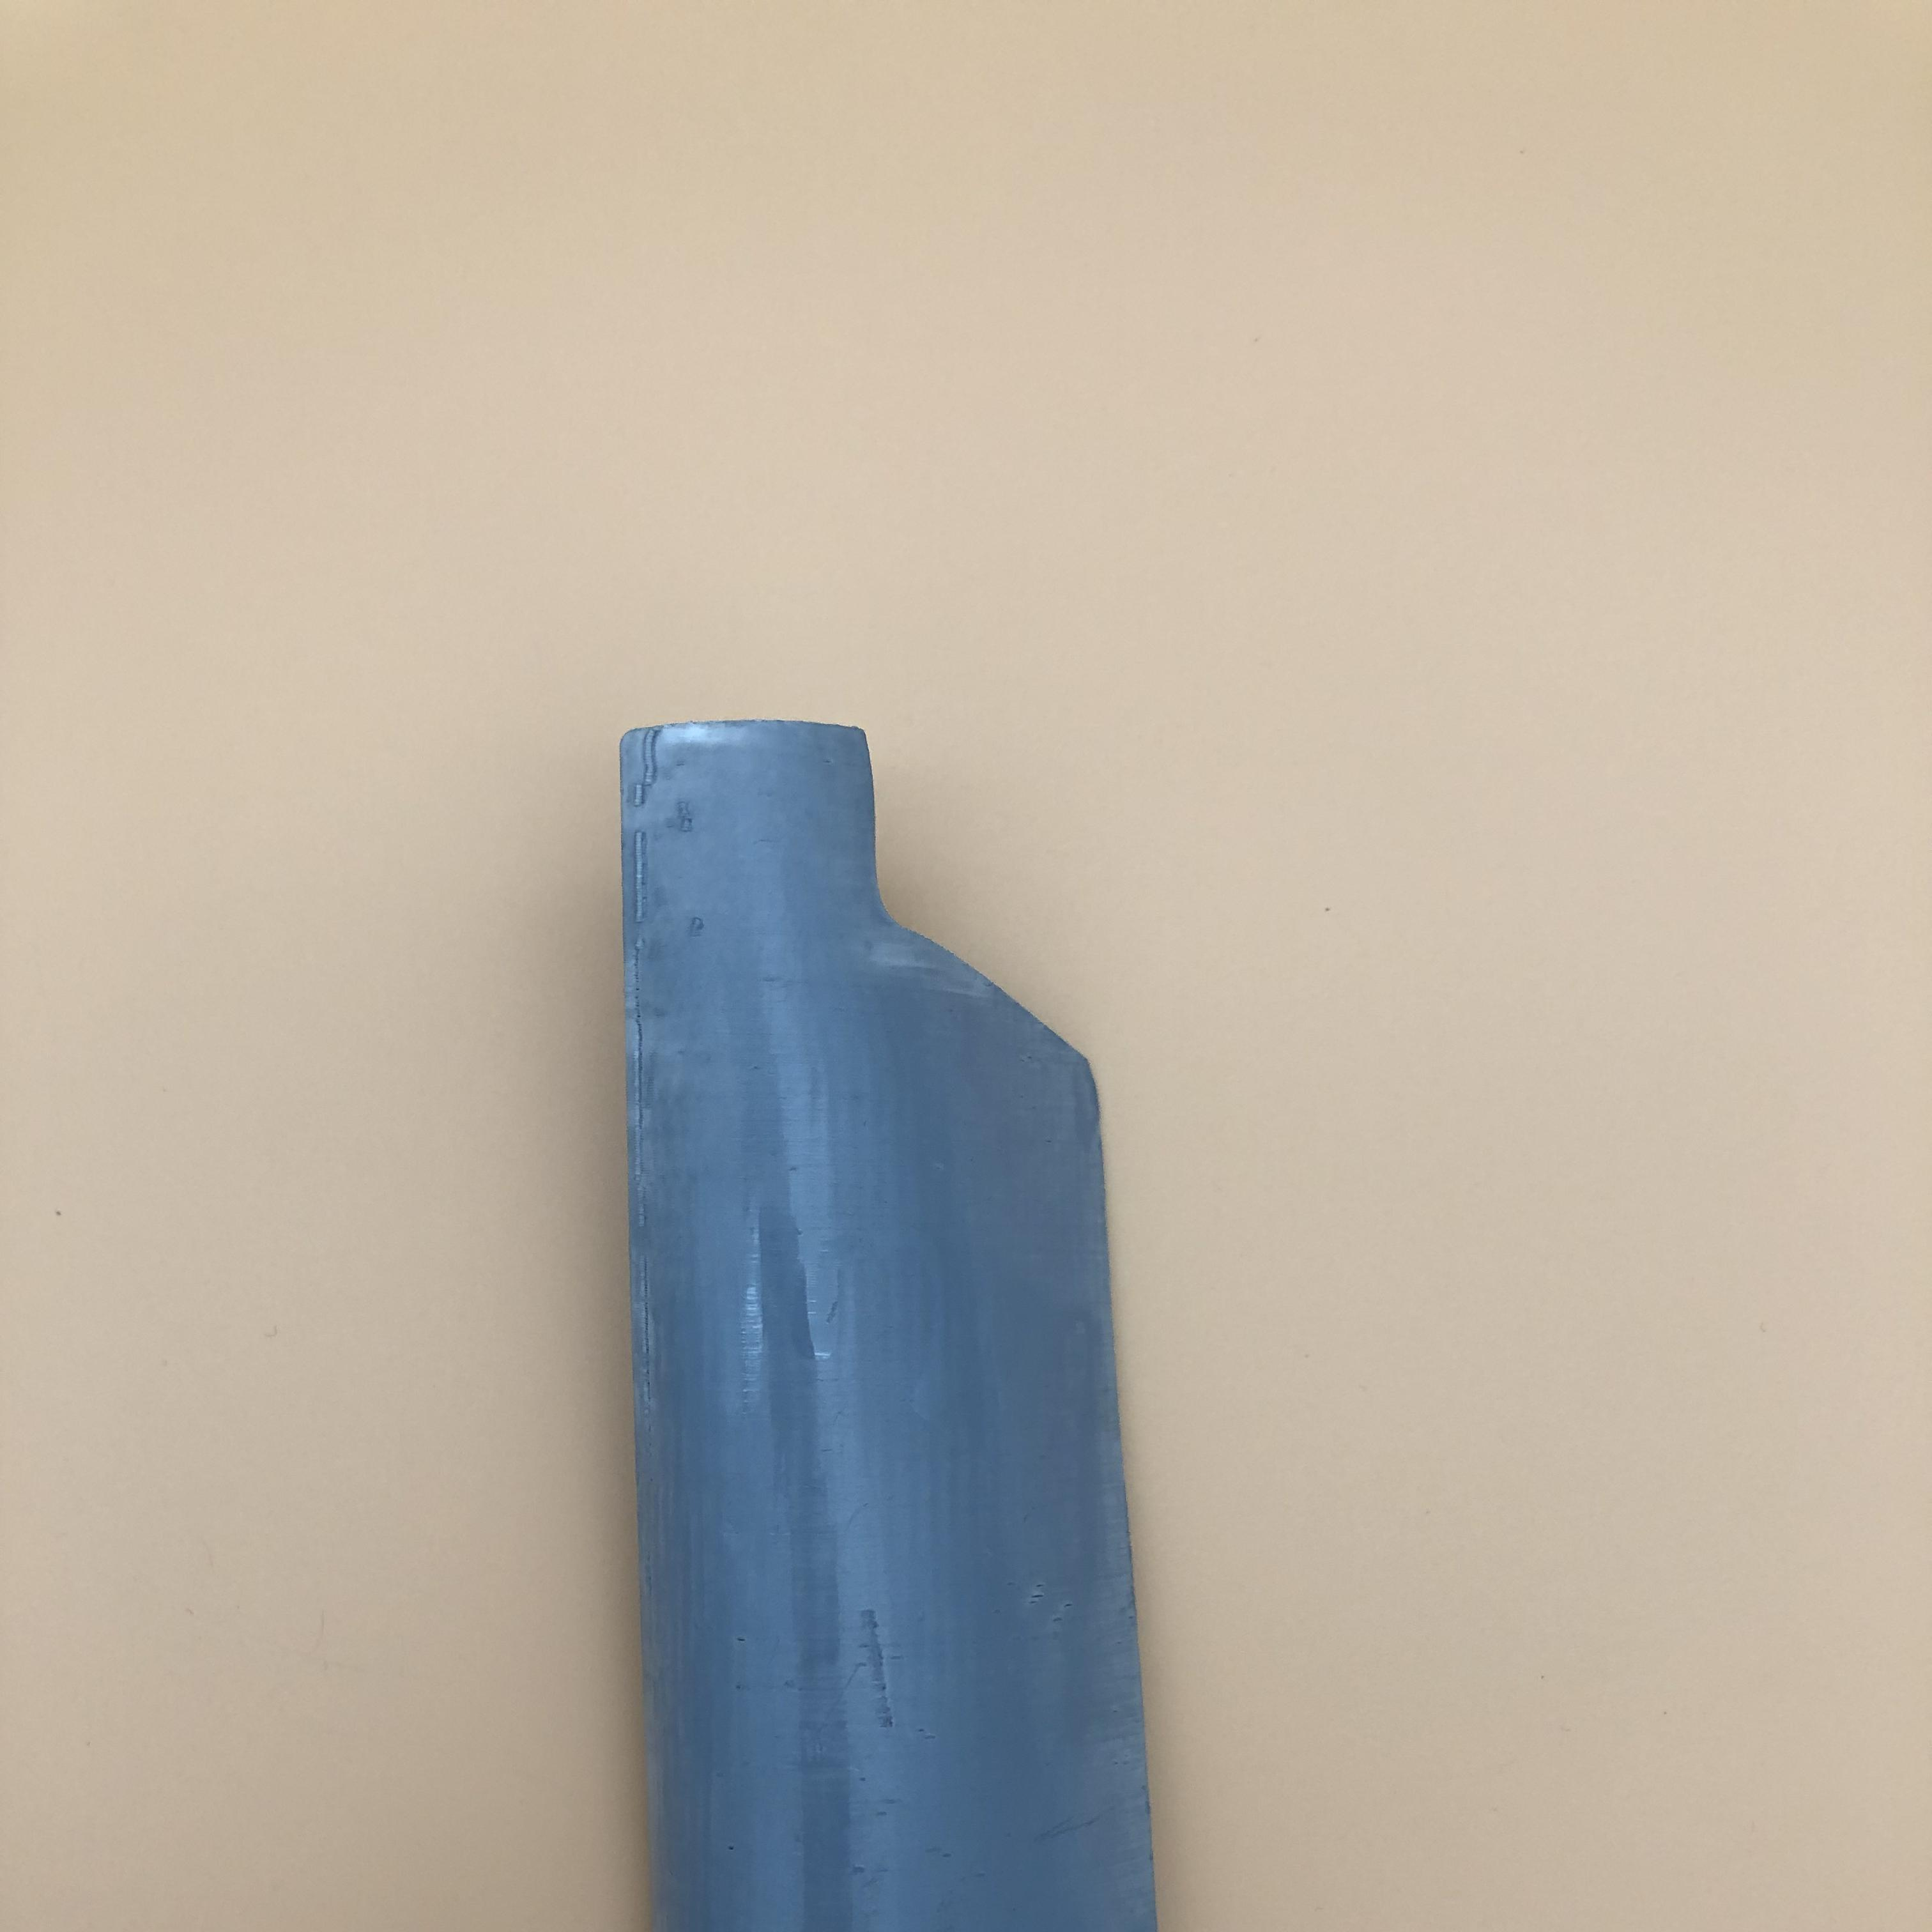fracture: (837, 738, 1097, 1092)
